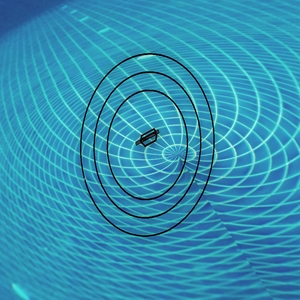submarine: (141, 132, 158, 144)
